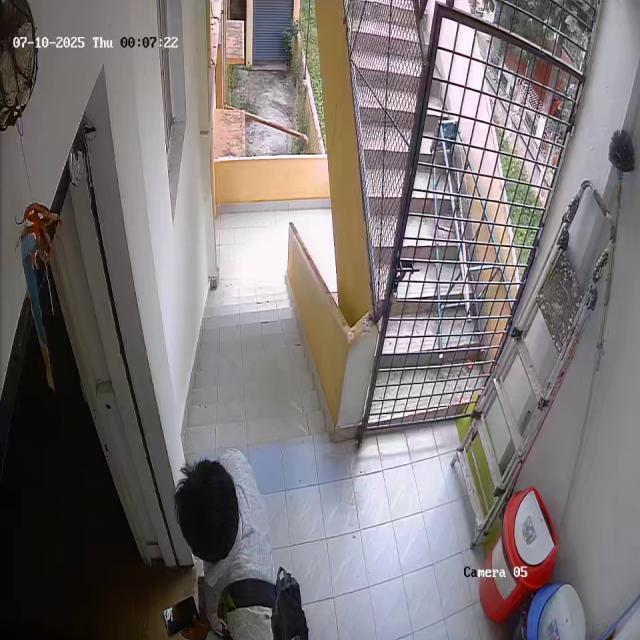person: (169, 447, 304, 640)
